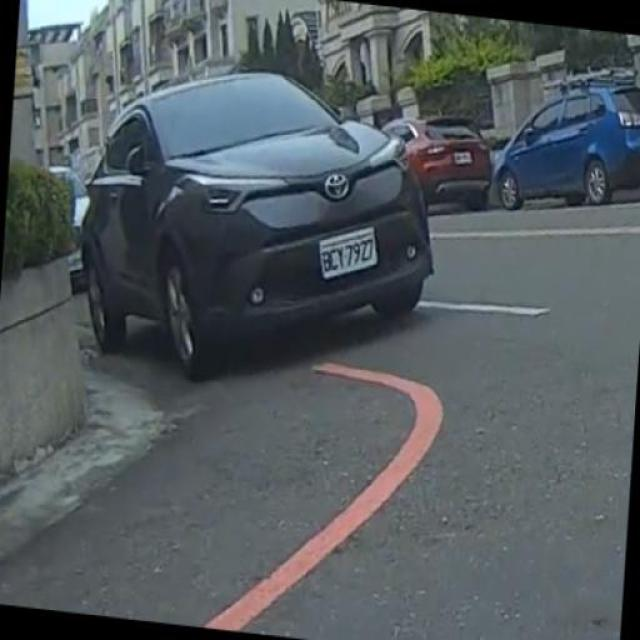illegalparking: (80, 71, 432, 379)
